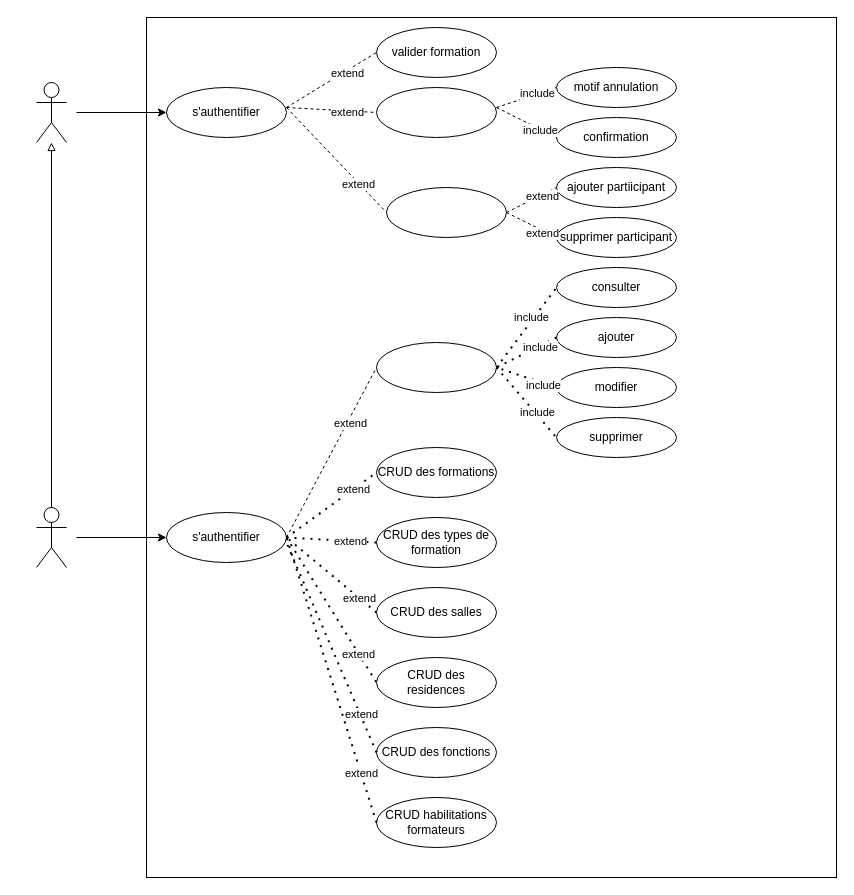
Image size: 854x895. Some labels were removed from this diagram. Each missing label, with the centre of its shape:
annuler formation: the point at 436,112
consulter details formation: the point at 446,212
CRUD des agents: the point at 436,367
formateur: the point at 51,112
Gestionnaire: the point at 51,537
